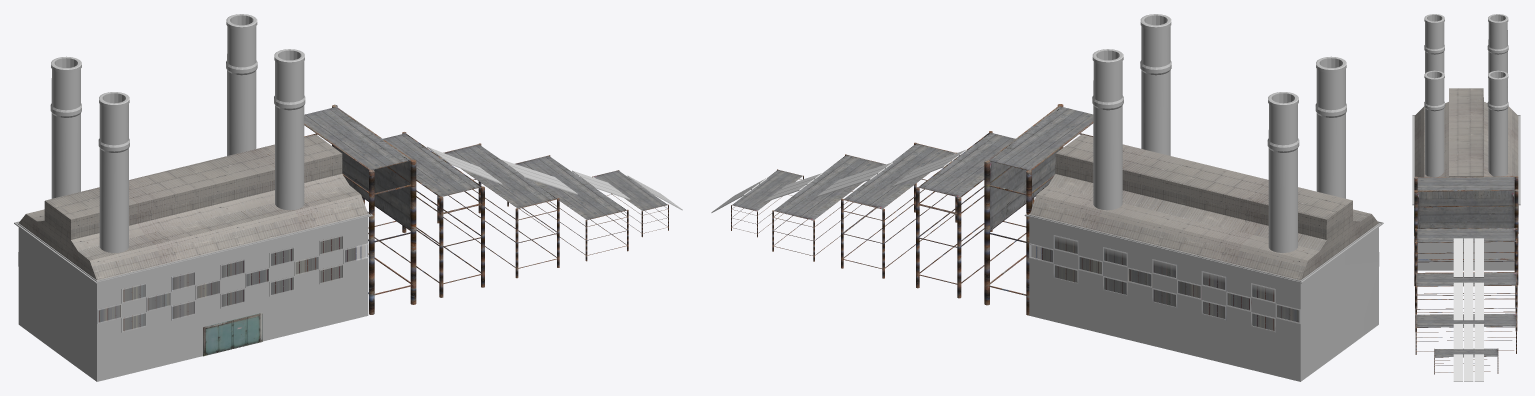
Rendered from Factory_Warehouse & Scaffold Sup Textured.fbx.
3 renders of one model, left to right at view 1: azimuth 30°, elevation 25°; view 2: azimuth 150°, elevation 25°; view 3: azimuth 270°, elevation 25°, orthographic. The views are drawn at different scales.
Visible parts, largest first — view 1: Factory/Warehouse, LSupport, Chimney1, Chimney4, Chimney2, Chimney3, MSupport, Small Sup, XS Sup, Planks, XXS Sup; view 2: Factory/Warehouse, LSupport, Chimney2, Chimney3, Chimney1, Chimney4, MSupport, Small Sup, XS Sup, Planks, XXS Sup; view 3: Factory/Warehouse, LSupport, Planks, Chimney2, Chimney1, MSupport, Small Sup, XS Sup, Chimney3, Chimney4, XXS Sup.
Boxes of the visible parts, bbox=[...] form: Factory/Warehouse: bbox=[14, 134, 372, 381]; LSupport: bbox=[304, 104, 416, 314]; Chimney1: bbox=[274, 49, 305, 210]; Chimney4: bbox=[98, 92, 129, 252]; Chimney2: bbox=[226, 14, 257, 155]; Chimney3: bbox=[50, 56, 81, 198]; MSupport: bbox=[362, 132, 484, 297]; Small Sup: bbox=[437, 143, 559, 278]; XS Sup: bbox=[507, 155, 628, 261]; Planks: bbox=[427, 147, 682, 210]; XXS Sup: bbox=[592, 170, 668, 237]; Factory/Warehouse: bbox=[1024, 134, 1383, 381]; LSupport: bbox=[984, 104, 1093, 315]; Chimney2: bbox=[1092, 49, 1123, 210]; Chimney3: bbox=[1267, 92, 1299, 252]; Chimney1: bbox=[1140, 14, 1171, 155]; Chimney4: bbox=[1315, 56, 1346, 198]; MSupport: bbox=[916, 131, 1034, 298]; Small Sup: bbox=[841, 142, 957, 278]; XS Sup: bbox=[772, 154, 885, 261]; Planks: bbox=[711, 149, 966, 212]; XXS Sup: bbox=[731, 169, 803, 237]; Factory/Warehouse: bbox=[1412, 88, 1520, 270]; LSupport: bbox=[1414, 176, 1518, 285]; Planks: bbox=[1453, 238, 1483, 381]; Chimney2: bbox=[1487, 70, 1508, 176]; Chimney1: bbox=[1424, 70, 1444, 176]; MSupport: bbox=[1415, 227, 1517, 308]; Small Sup: bbox=[1415, 272, 1517, 331]; XS Sup: bbox=[1415, 313, 1516, 354]; Chimney3: bbox=[1487, 14, 1508, 95]; Chimney4: bbox=[1424, 14, 1444, 73]; XXS Sup: bbox=[1434, 348, 1498, 374].
Size of the model in its own units: 75.9 by 31.39 by 17.39.
